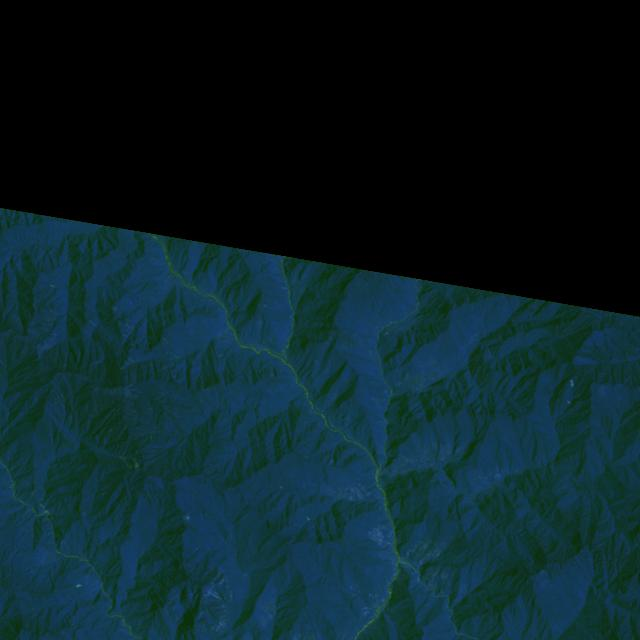landslides: (458, 320, 471, 340), (119, 457, 132, 469), (207, 590, 221, 600)
